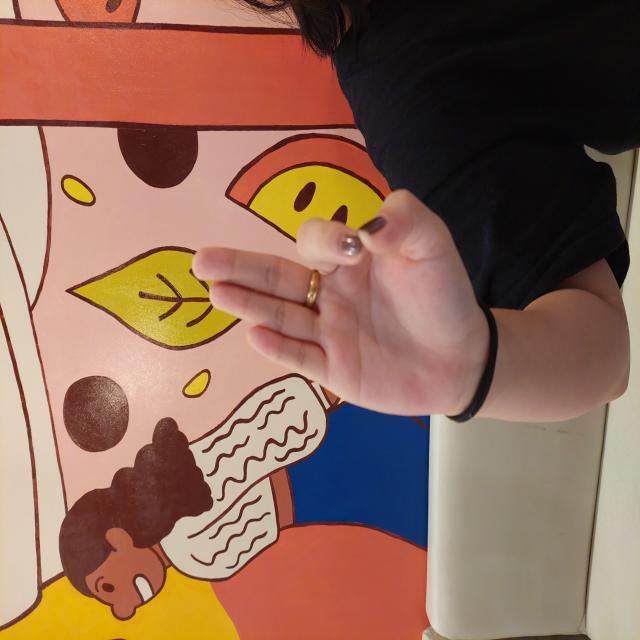F: (222, 190, 454, 487)
